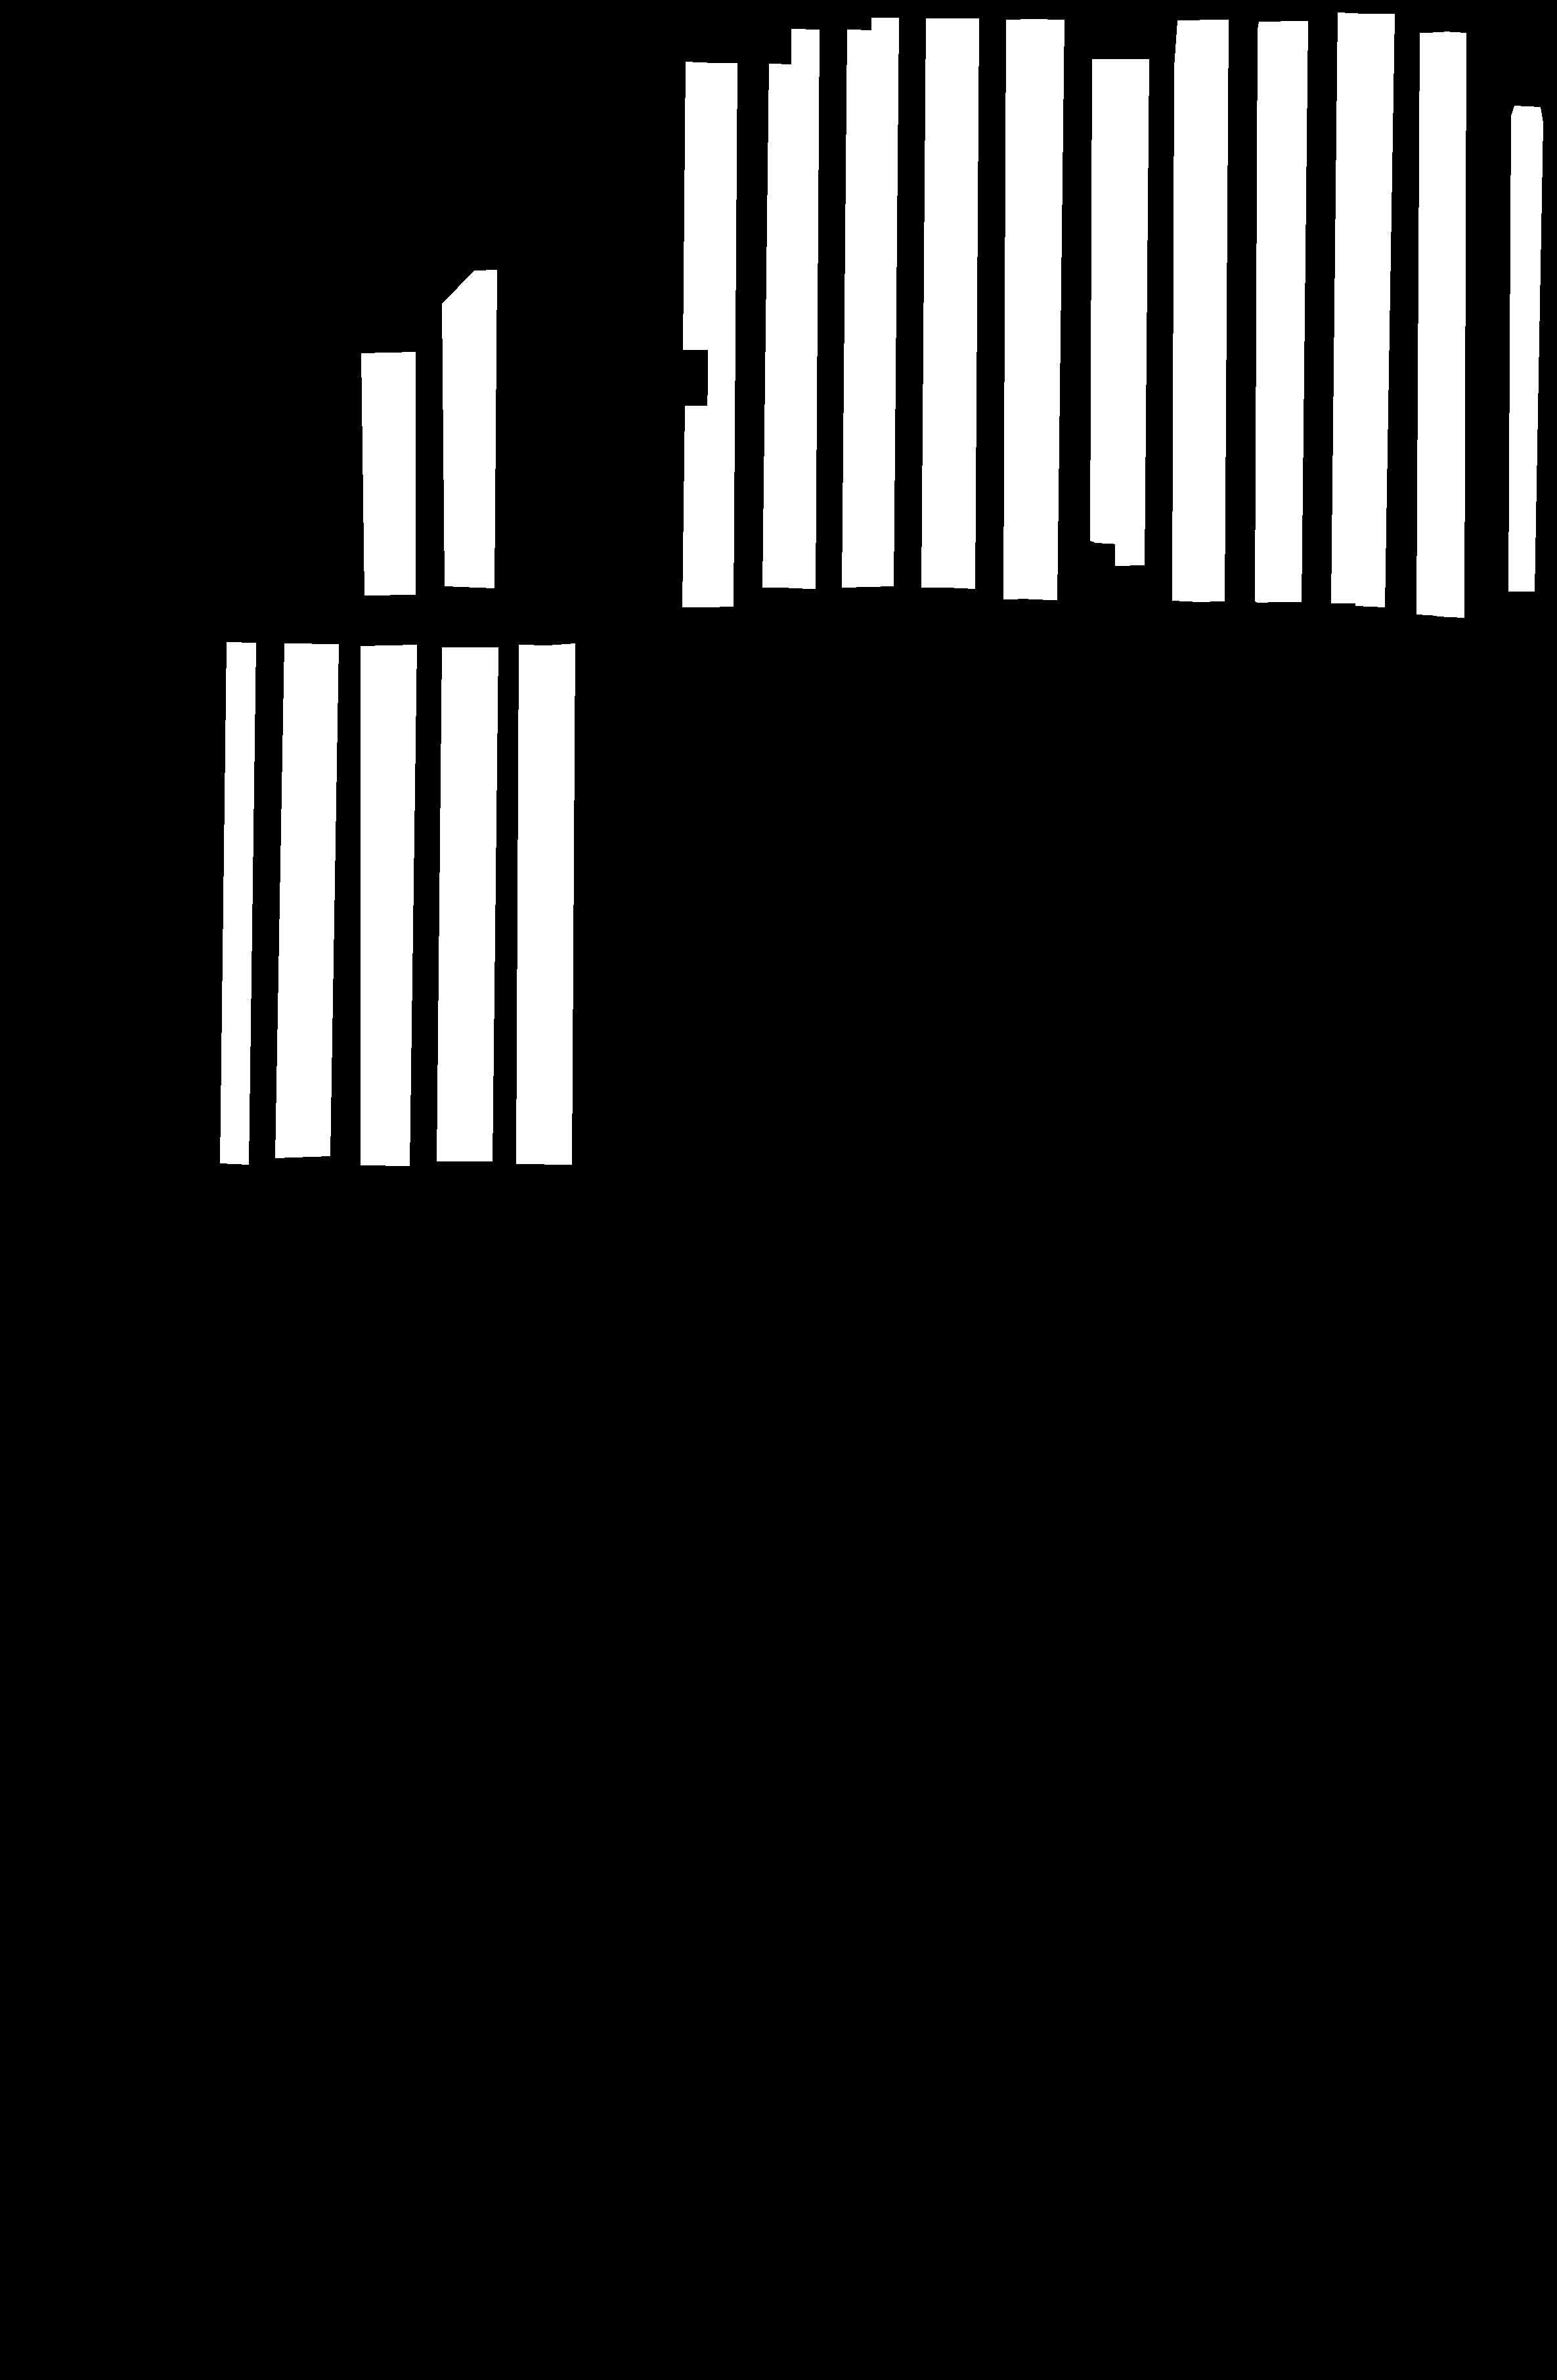parkingspot: (275, 643, 339, 1157), (436, 646, 497, 1160), (516, 643, 575, 1164), (360, 645, 417, 1166), (1355, 14, 1394, 606), (1029, 19, 1063, 599), (1331, 12, 1364, 603), (1196, 19, 1229, 601), (219, 641, 255, 1164), (921, 17, 954, 587), (865, 17, 898, 585), (785, 28, 818, 589), (841, 30, 874, 587), (1003, 19, 1034, 599), (704, 63, 737, 606), (947, 17, 978, 589), (441, 269, 497, 587), (1435, 31, 1465, 617), (1416, 31, 1446, 615), (1173, 21, 1203, 601), (1277, 21, 1307, 601), (1508, 106, 1543, 591), (1116, 59, 1149, 565), (761, 63, 792, 587), (1255, 21, 1282, 603), (1090, 59, 1123, 544), (360, 351, 415, 594), (683, 61, 714, 349), (681, 405, 711, 606)
